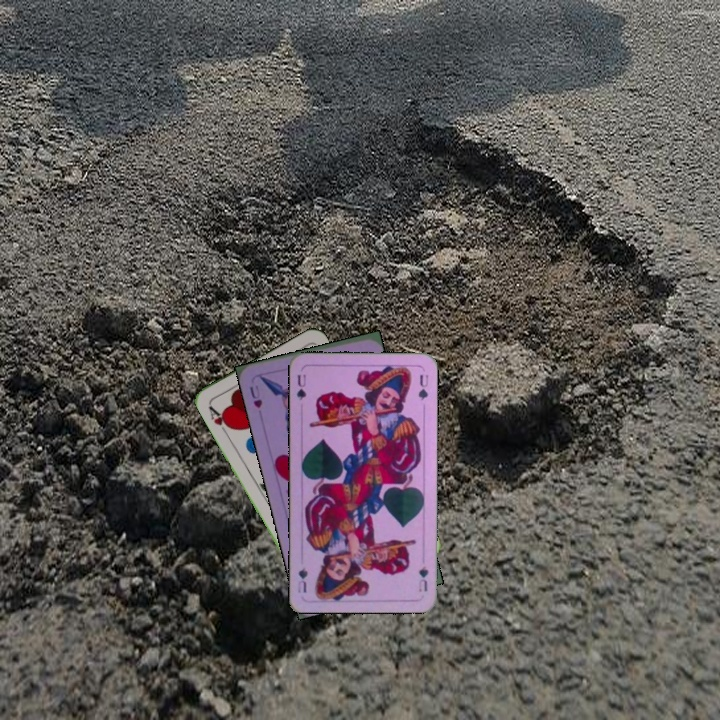GU: (414, 562, 431, 594), (293, 371, 309, 403)
HA: (204, 401, 234, 438)
HU: (245, 381, 265, 410)
